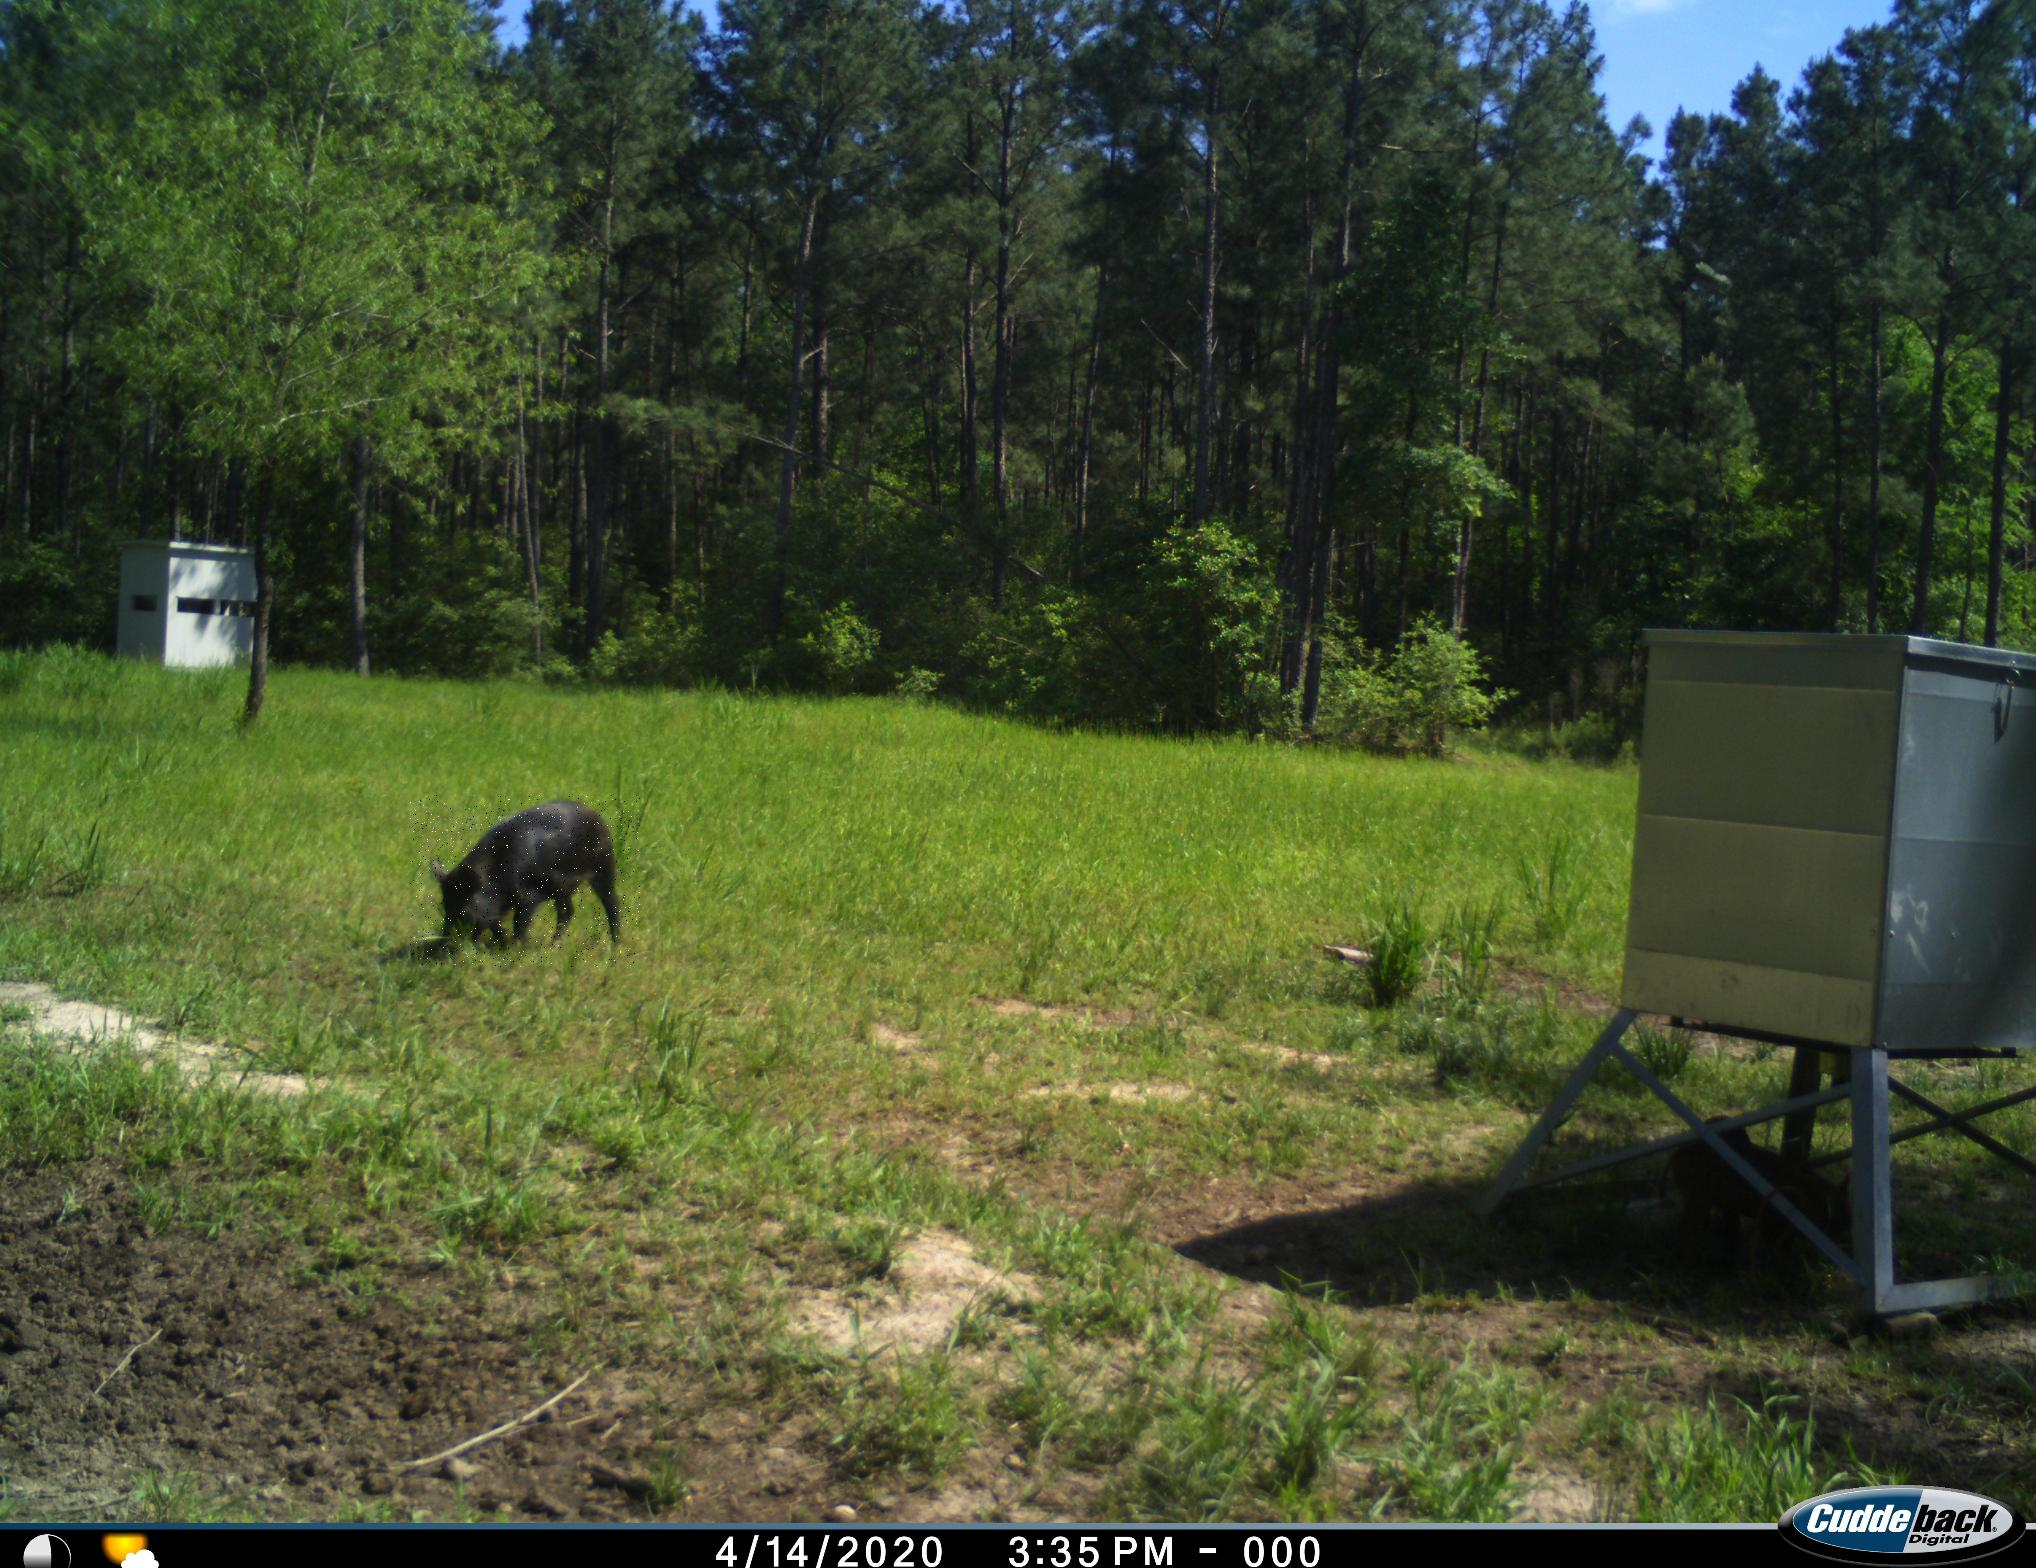Hog: (410, 796, 639, 967)
